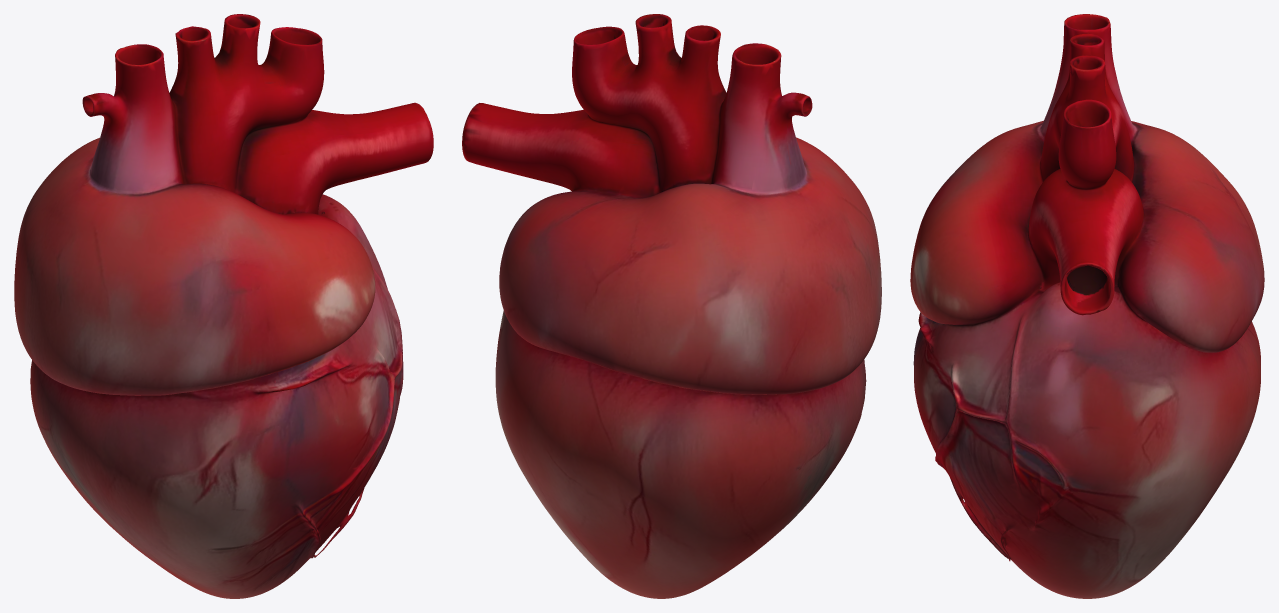
The model's file is hcm-heart.glb.
The picture shows the model from 3 angles, left to right: view 1: azimuth 30°, elevation 25°; view 2: azimuth 150°, elevation 25°; view 3: azimuth 270°, elevation 25°; orthographic projection. The views are drawn at different scales.
Visible parts, largest first — view 1: model; view 2: model; view 3: model.
Part boxes in pixels (box(x1,y1,x2,y2)): model: box(14, 14, 433, 598); model: box(462, 14, 881, 598); model: box(910, 14, 1264, 598).
Size of the model in its own units: 1.34 by 1.9 by 1.14.
Materials: 1 (1 with a texture image).
